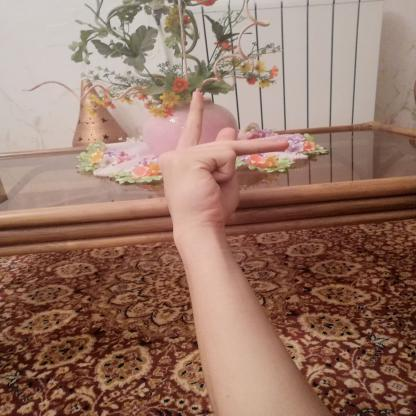DHAA: (147, 81, 302, 242)
